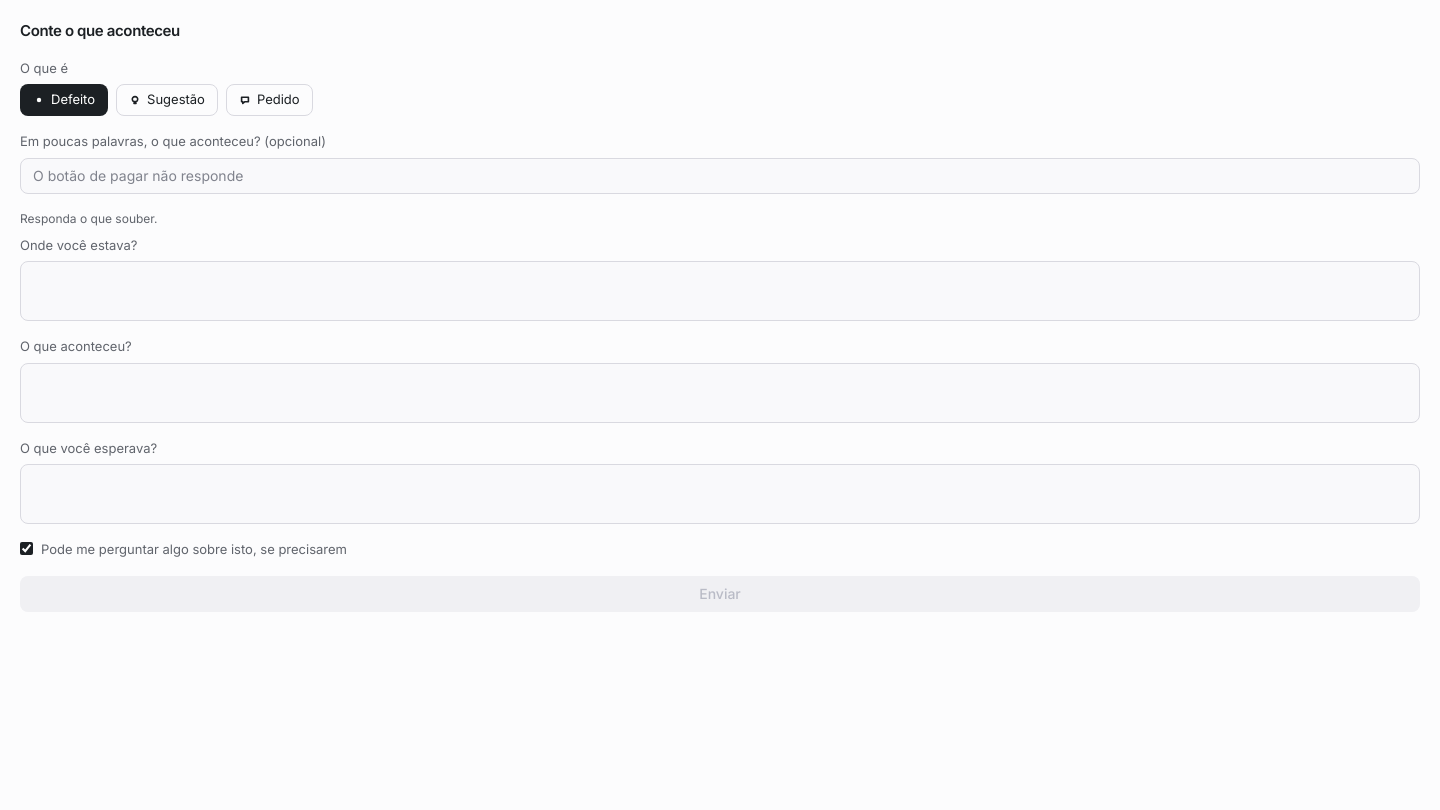
Test: o formulario de cada tipo › trocar de tipo troca os campos pelos do tipo escolhido
Click the button "Pedido" at (269, 100), box [226,84,313,116]
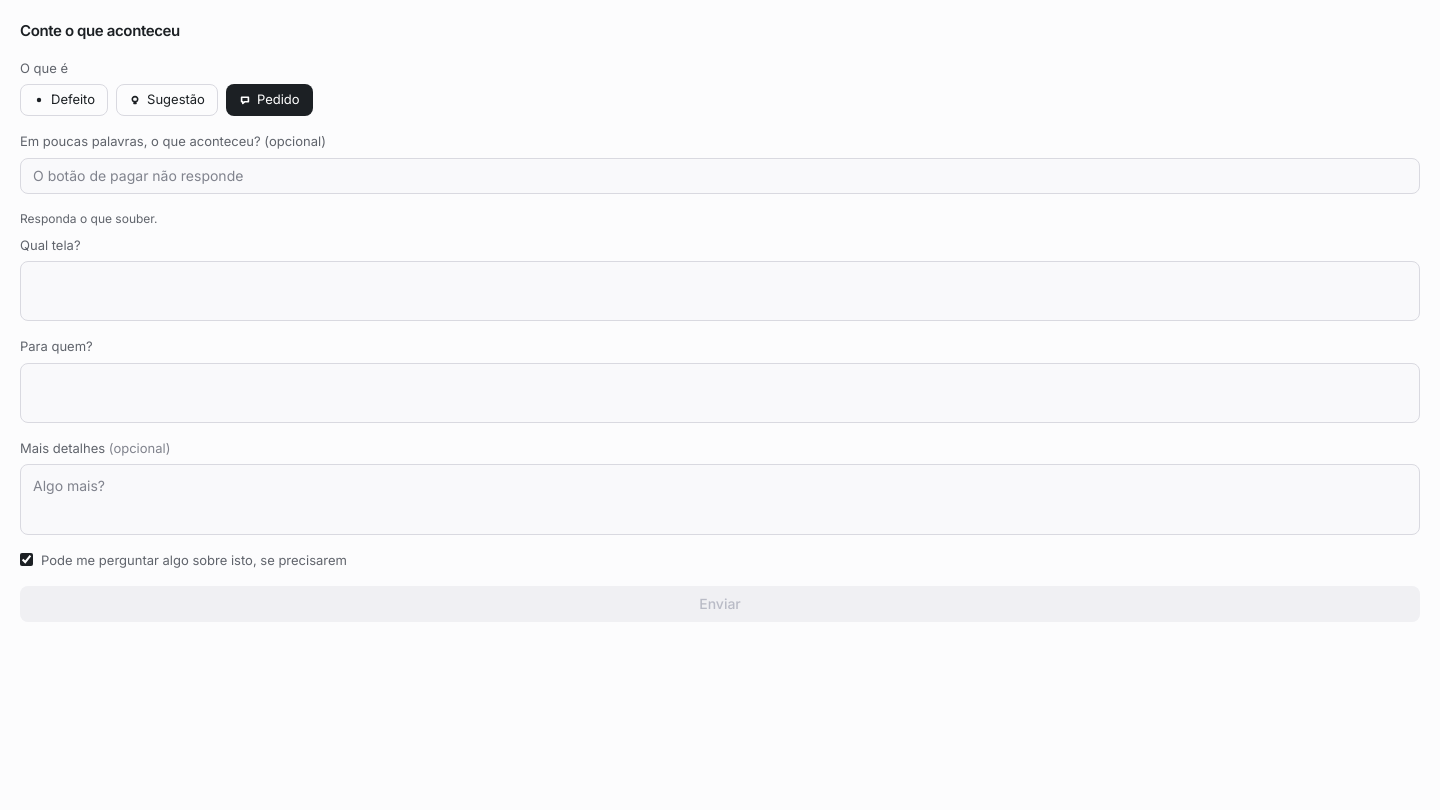
Now the label "Onde você estava?" is gone
Now the label "O que você esperava?" is gone
